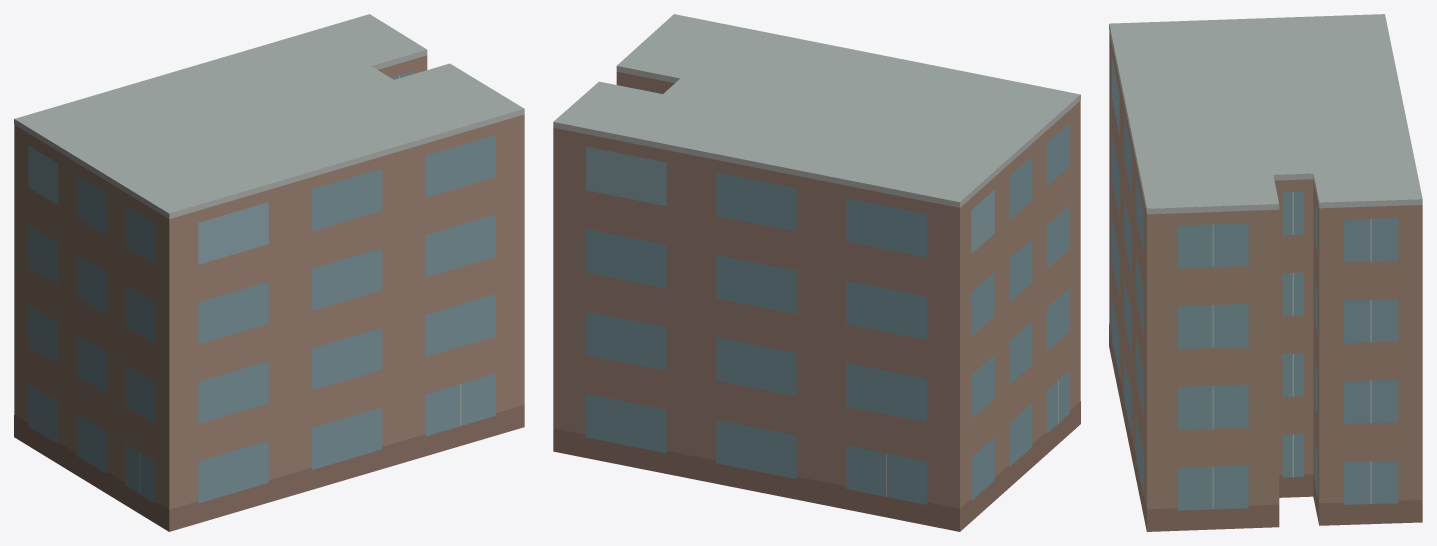
The model's file is survey-upis-32757673.glb.
3 views of the same model, side by side, from view 1: azimuth 30°, elevation 25°; view 2: azimuth 150°, elevation 25°; view 3: azimuth 270°, elevation 25° (orthographic). The views are drawn at different scales.
Visible parts, largest first — view 1: survey-upis-32757673.tmp; view 2: survey-upis-32757673.tmp; view 3: survey-upis-32757673.tmp.
Part boxes in pixels (x1,y1,x2,y2): survey-upis-32757673.tmp: [14, 14, 524, 531]; survey-upis-32757673.tmp: [553, 14, 1080, 531]; survey-upis-32757673.tmp: [1109, 14, 1422, 531].
Size of the model in its own units: 17.98 by 13.9 by 12.24.
